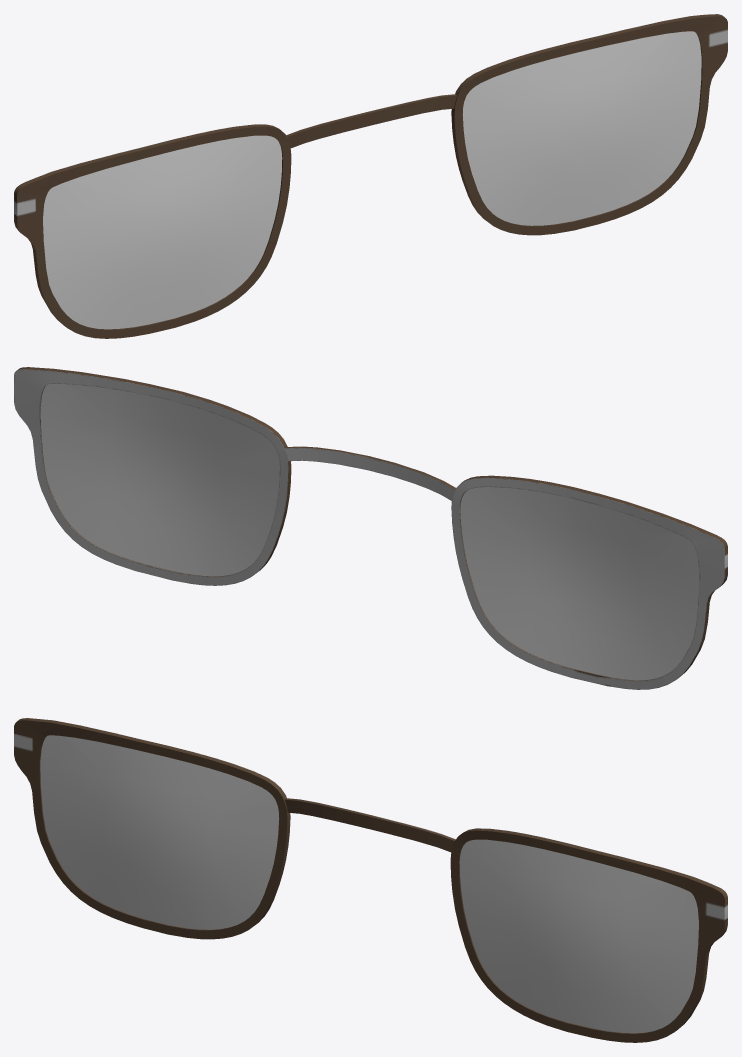
The model's file is PRADA Glasses Wide Optimized No Arms.fbx.
3 renders of one model, top to bottom at view 1: azimuth 30°, elevation 25°; view 2: azimuth 150°, elevation 25°; view 3: azimuth 330°, elevation 25°, orthographic.
Parts seen in each view (by area): view 1: PRADA Glasses Wide Optimized No Arms; view 2: PRADA Glasses Wide Optimized No Arms; view 3: PRADA Glasses Wide Optimized No Arms.
Part boxes in pixels (bbox=[...]): PRADA Glasses Wide Optimized No Arms: bbox=[14, 14, 727, 338]; PRADA Glasses Wide Optimized No Arms: bbox=[14, 367, 727, 689]; PRADA Glasses Wide Optimized No Arms: bbox=[14, 718, 727, 1042].
Bounding box in the file's own units: 0.1873 × 0.0471 × 0.00374.
